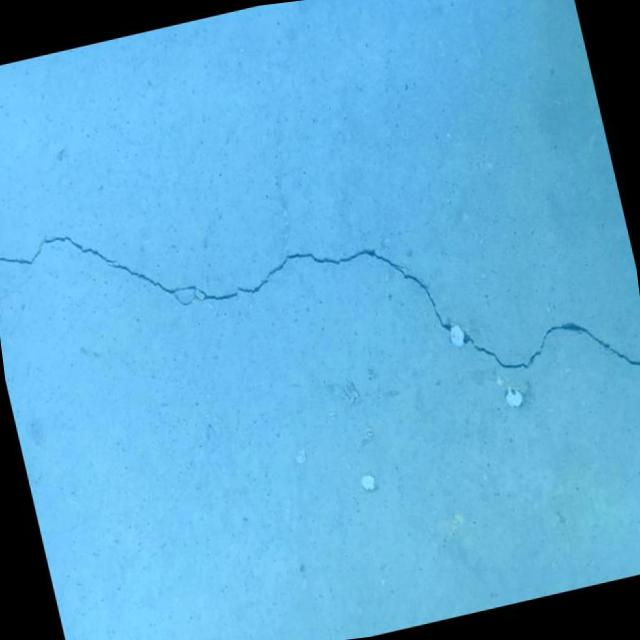crack: (0, 106, 640, 537), (0, 269, 47, 332)
